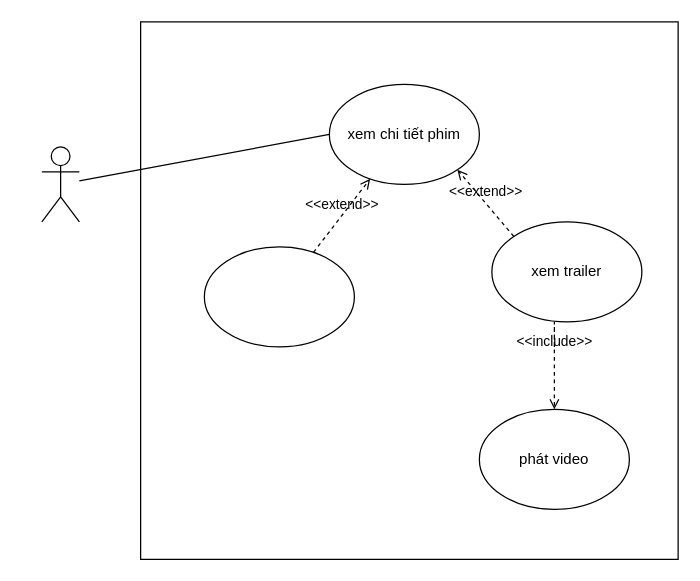
This 700x581 diagram has some shape labels left out. The centre of each missing label's shape, as x and y in pixels:
"người dùng" belongs at [60,184].
"xem bình luận" belongs at [278,296].
